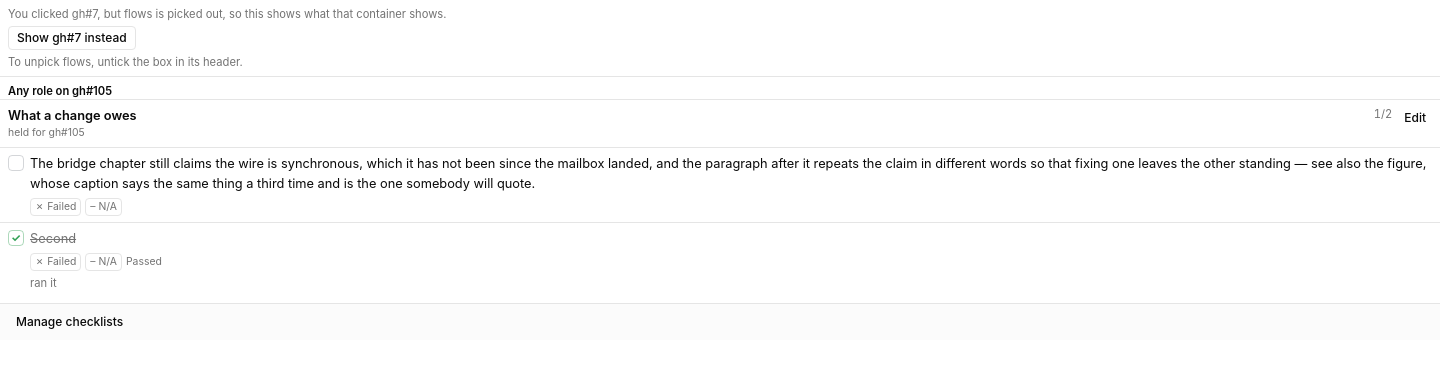
types × roles on the reading page, and a click set aside (Jalez/kehikko-checklist#32) › a click set aside: the line and both ways out, above the lists
The image size is (1440, 366).
Expected: the text "You clicked gh#7, but flows is picked out, so this shows what that container shows." is shown, [8,7,446,21]
Expected: the text "To unpick flows, untick the box in its header." is shown, [8,55,243,69]
Step 1. Click the button "Show gh#7 instead" → [72, 38], box [8,26,136,50]
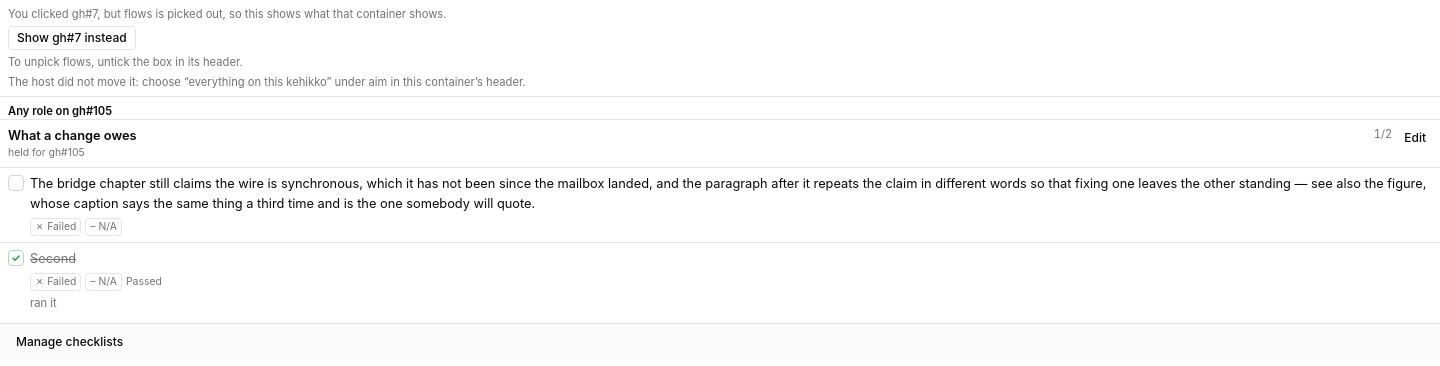
Result: the text "choose “everything on this kehikko” under aim" is shown at [8,75,526,89]
